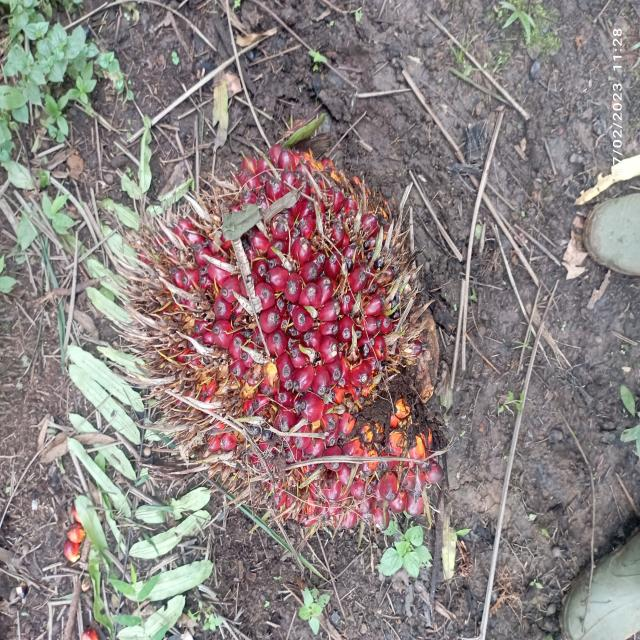fraksi 3: (113, 123, 452, 549)
